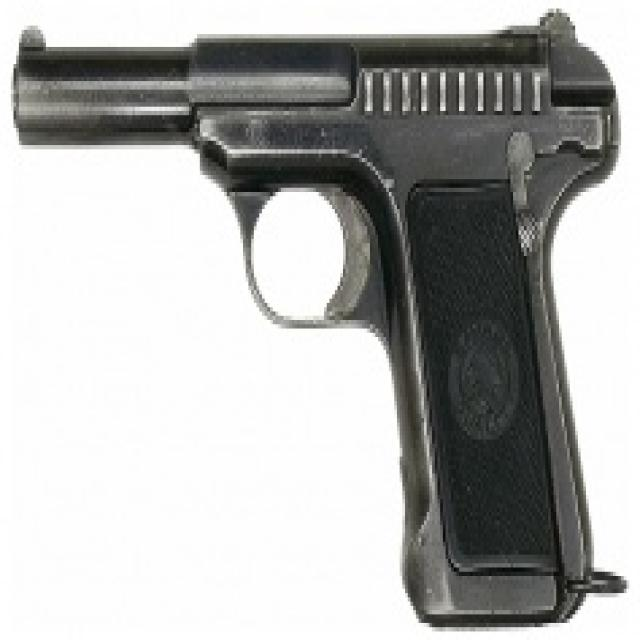pistol: (1, 1, 636, 637)
